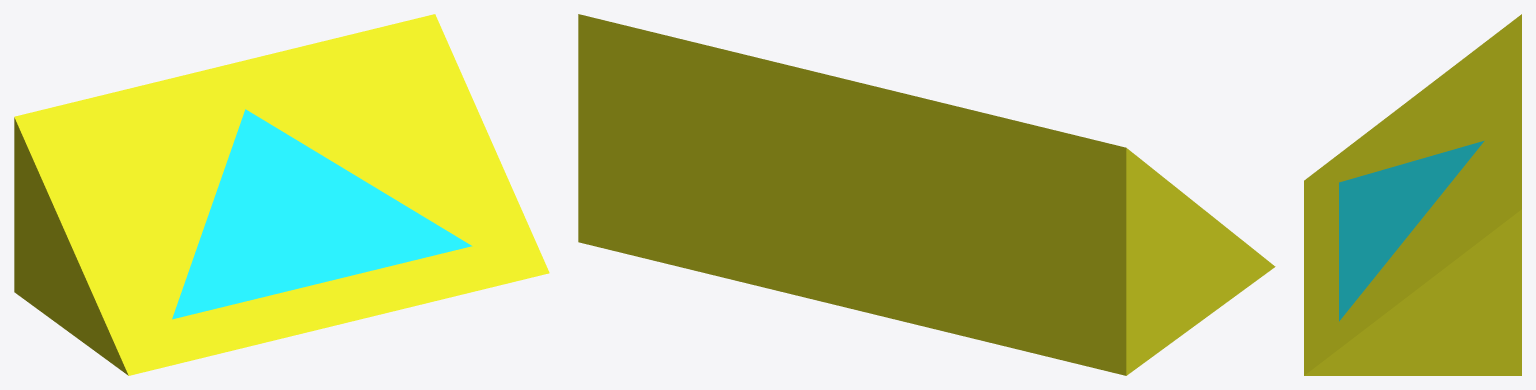
Rendered from jump_1.fbx.
The picture shows the model from 3 angles, left to right: view 1: azimuth 30°, elevation 25°; view 2: azimuth 150°, elevation 25°; view 3: azimuth 270°, elevation 25°; orthographic projection. The views are drawn at different scales.
Parts seen in each view (by area): view 1: jump_1; view 2: jump_1; view 3: jump_1.
Part boxes in pixels (bbox=[...]): jump_1: bbox=[14, 14, 549, 375]; jump_1: bbox=[578, 14, 1275, 375]; jump_1: bbox=[1304, 14, 1521, 375].
Size of the model in its own units: 0.3442 by 0.137 by 0.1623.
